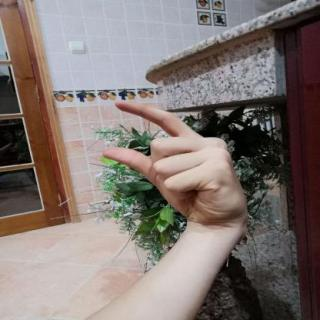DELL: (89, 97, 258, 232)
